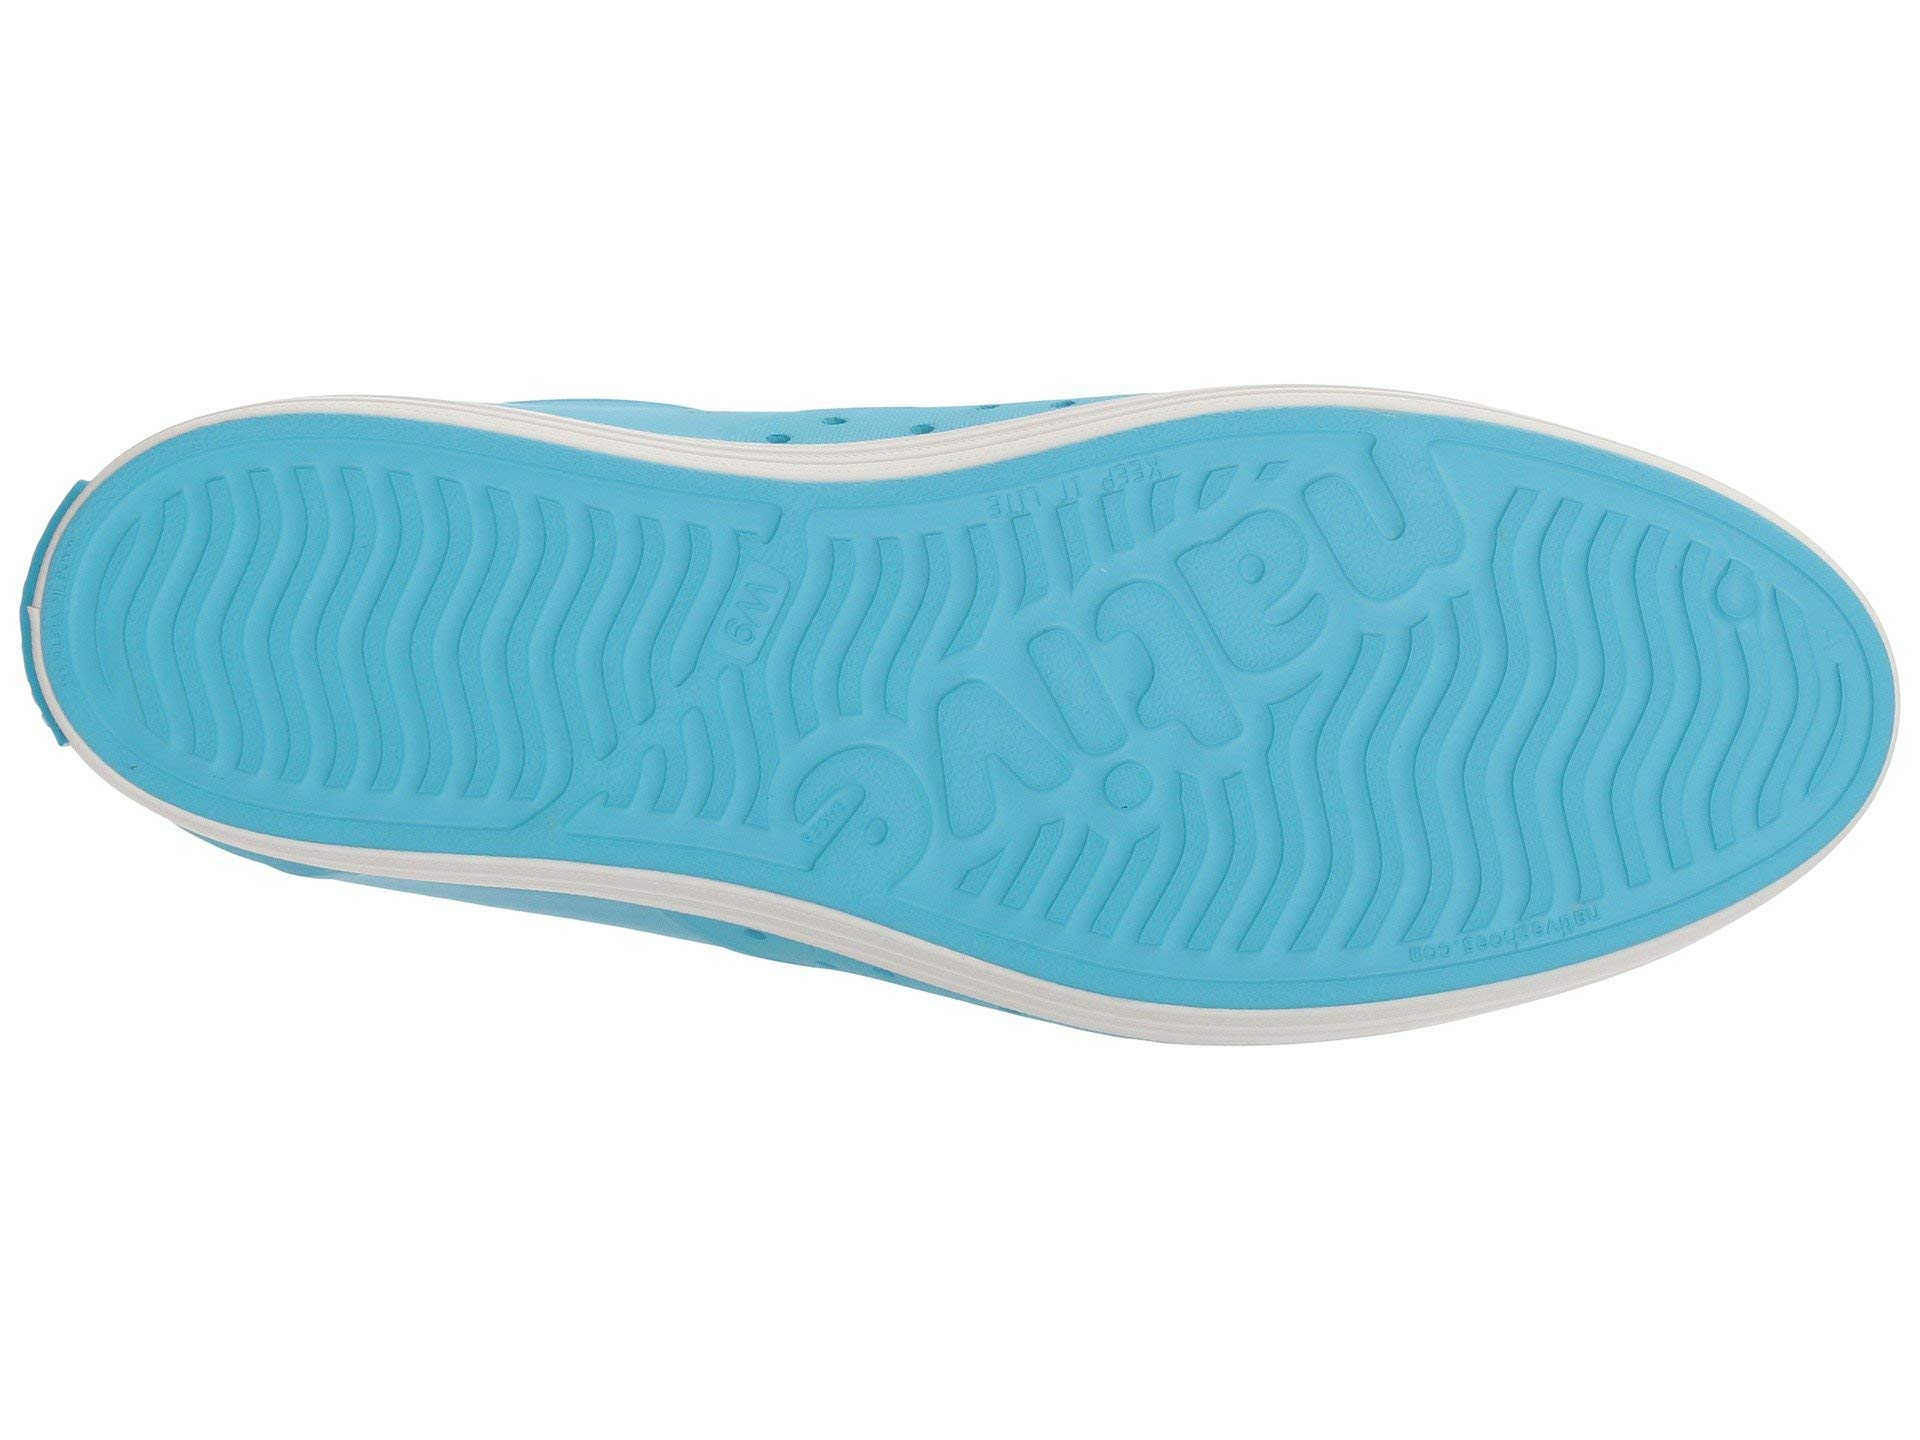chevron: (779, 499, 1172, 932), (1157, 433, 1604, 796), (591, 487, 856, 709)
circle: (779, 499, 1172, 932)
text: (779, 499, 1172, 932), (1157, 433, 1604, 796), (591, 487, 856, 709)
